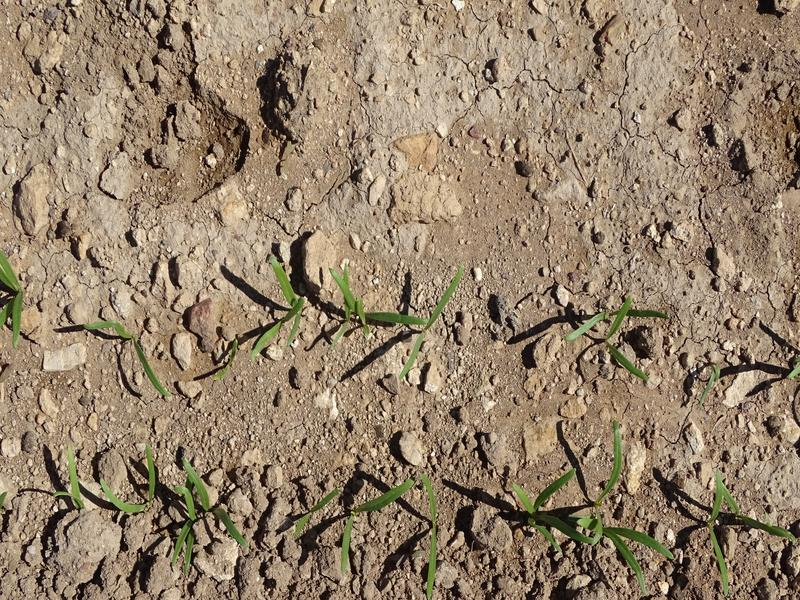Espinaca: (505, 460, 682, 577), (330, 270, 452, 360), (709, 473, 790, 579), (80, 313, 177, 400), (171, 465, 243, 566), (561, 293, 654, 370), (335, 477, 413, 566), (248, 256, 309, 351), (103, 445, 161, 513), (419, 470, 446, 591), (1, 260, 30, 344), (59, 442, 86, 514)
